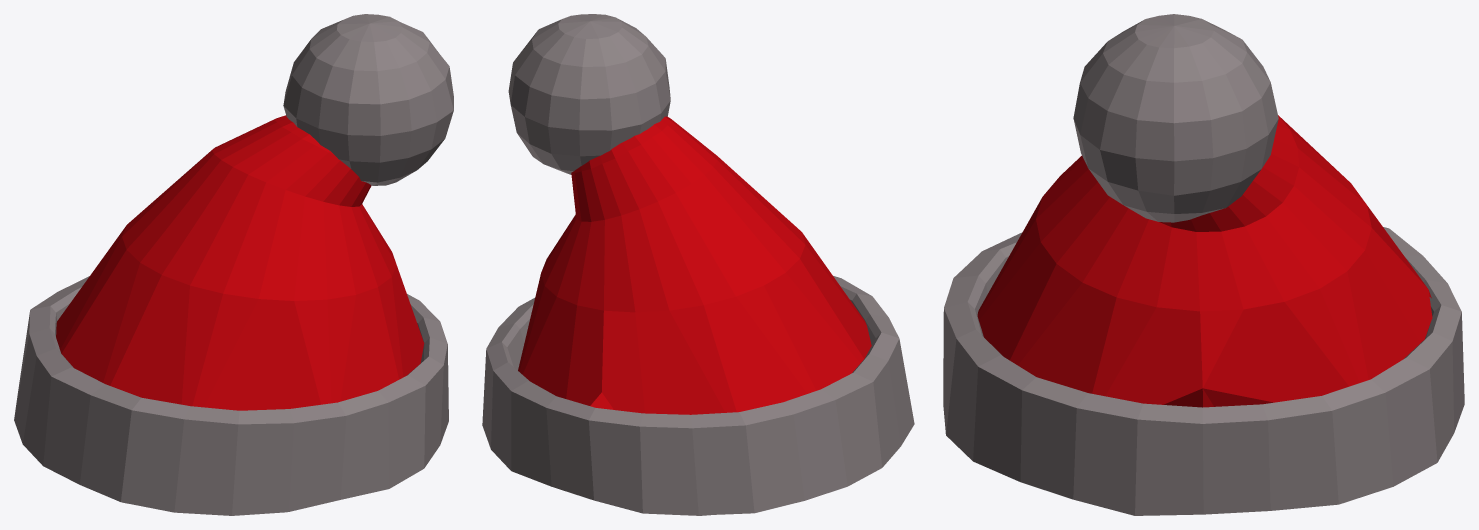
File: christmas_hat.fbx
3 renders of one model, left to right at view 1: azimuth 30°, elevation 25°; view 2: azimuth 150°, elevation 25°; view 3: azimuth 270°, elevation 25°, orthographic. The views are drawn at different scales.
Parts seen in each view (by area): view 1: Cone, Cone.001, Sphere; view 2: Cone, Cone.001, Sphere; view 3: Cone, Cone.001, Sphere.
Boxes of the visible parts, <box> form: Cone: <box>56,115,424,410</box>; Cone.001: <box>14,276,448,515</box>; Sphere: <box>283,14,453,185</box>; Cone: <box>518,116,871,414</box>; Cone.001: <box>482,276,914,515</box>; Sphere: <box>508,14,670,174</box>; Cone: <box>977,115,1432,407</box>; Cone.001: <box>943,227,1464,515</box>; Sphere: <box>1073,14,1278,222</box>.
Bounding box in the file's own units: 202 × 191 × 196.
